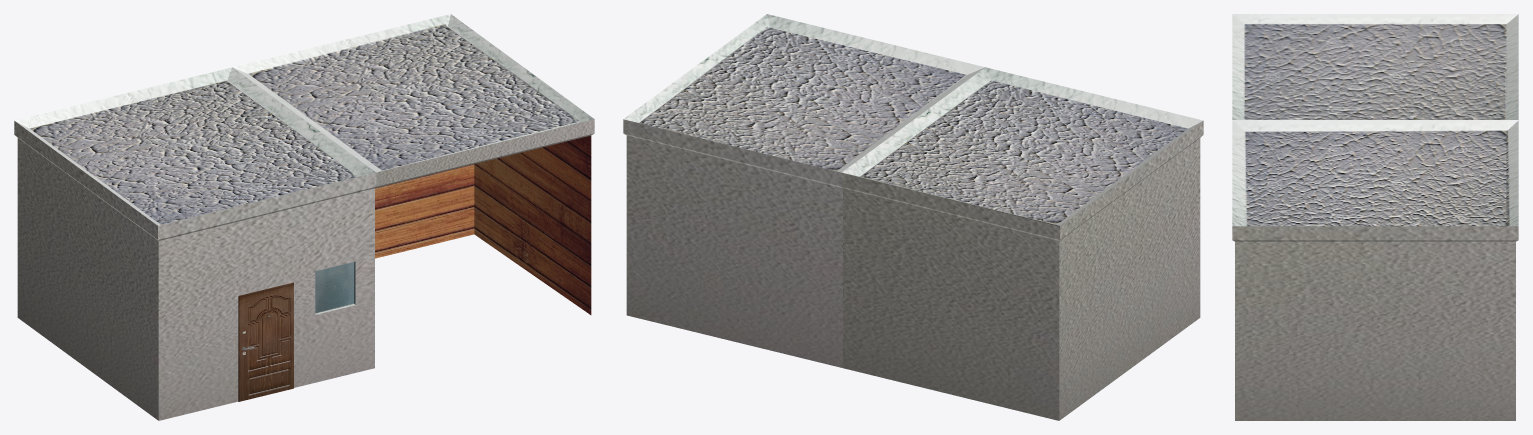
The model's file is Lab.fbx.
3 views of the same model, side by side, from view 1: azimuth 30°, elevation 25°; view 2: azimuth 150°, elevation 25°; view 3: azimuth 270°, elevation 25° (orthographic).
Visible parts, largest first — view 1: Laboratorio_Prop:pCube11; view 2: Laboratorio_Prop:pCube11; view 3: Laboratorio_Prop:pCube11.
Boxes of the visible parts, bbox=[...] form: Laboratorio_Prop:pCube11: bbox=[14, 14, 594, 420]; Laboratorio_Prop:pCube11: bbox=[623, 14, 1203, 420]; Laboratorio_Prop:pCube11: bbox=[1232, 14, 1518, 420].
Bounding box in the file's own units: 31.94 × 13.75 × 18.22.
1 material, 1 textured.
